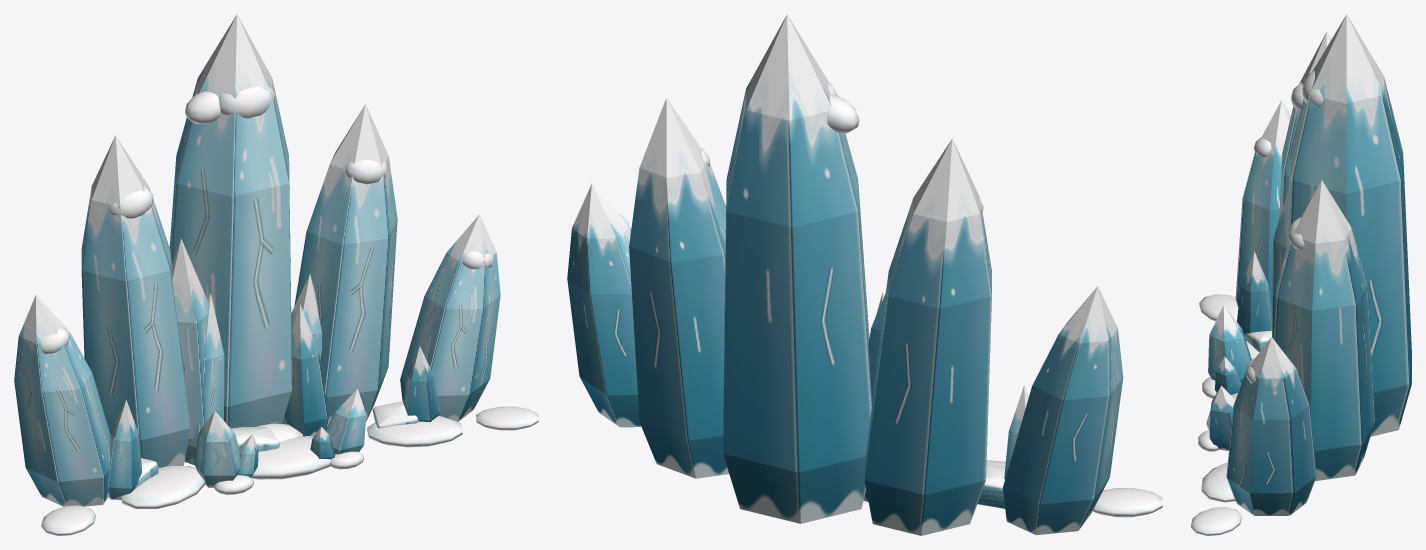
The model's file is glacier.glb.
3 views of the same model, side by side, from view 1: azimuth 30°, elevation 25°; view 2: azimuth 150°, elevation 25°; view 3: azimuth 270°, elevation 25° (orthographic). The views are drawn at different scales.
Visible parts, largest first — view 1: peak, left-a, right-a, left-b, right-b, foot, front-l, front-r; view 2: peak, left-a, right-a, left-b, right-b, foot; view 3: peak, right-a, right-b, left-b, foot, front-l, left-a, front-r.
Part boxes in pixels (left/top/right/bottom): peak: left=169, top=14, right=322, bottom=453; left-a: left=81, top=135, right=224, bottom=468; right-a: left=284, top=104, right=397, bottom=436; left-b: left=14, top=295, right=141, bottom=506; right-b: left=400, top=214, right=500, bottom=422; foot: left=41, top=401, right=538, bottom=535; front-l: left=194, top=411, right=258, bottom=494; front-r: left=310, top=389, right=366, bottom=469; peak: left=723, top=14, right=885, bottom=523; left-a: left=864, top=138, right=991, bottom=535; right-a: left=629, top=97, right=729, bottom=478; left-b: left=1003, top=286, right=1123, bottom=535; right-b: left=567, top=183, right=641, bottom=427; foot: left=977, top=460, right=1162, bottom=517; peak: left=1272, top=14, right=1411, bottom=436; right-a: left=1273, top=180, right=1374, bottom=481; right-b: left=1226, top=337, right=1316, bottom=515; left-b: left=1235, top=100, right=1290, bottom=334; foot: left=1191, top=294, right=1271, bottom=535; front-l: left=1202, top=305, right=1251, bottom=398; left-a: left=1276, top=32, right=1330, bottom=296; front-r: left=1198, top=385, right=1235, bottom=451.
Bounding box in the file's own units: 11.24 × 9.24 × 4.4.
1 material, 1 textured.
